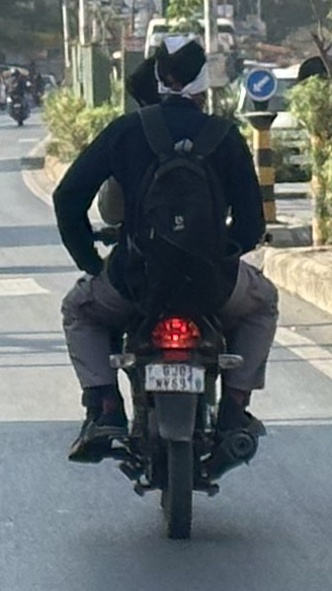BikeWithRider: (44, 27, 288, 547), (0, 61, 38, 129)
NoHelmet: (143, 29, 218, 115)
